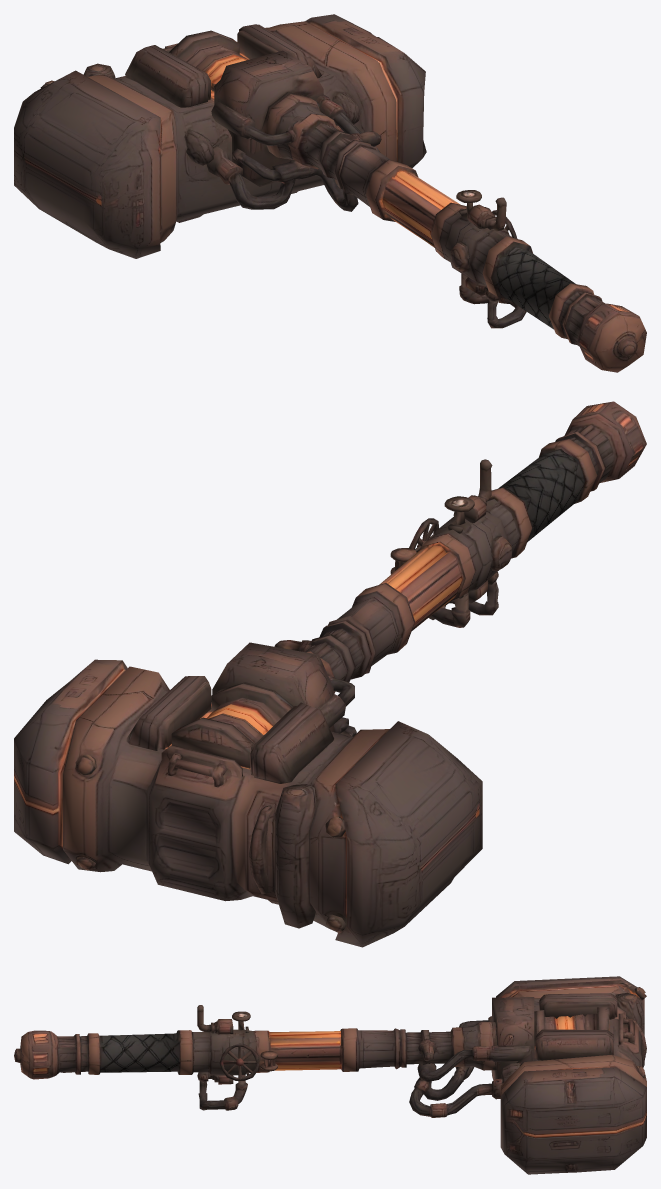
Rendered from c3h8-hammer-lowpoly.glb.
3 views of the same model, one above another, from view 1: azimuth 30°, elevation 25°; view 2: azimuth 150°, elevation 25°; view 3: azimuth 270°, elevation 25° (orthographic). The views are drawn at different scales.
Parts seen in each view (by area): view 1: Embercoil Siege Hammer; view 2: Embercoil Siege Hammer; view 3: Embercoil Siege Hammer.
Boxes of the visible parts, x1,y1,x2,y2 form: Embercoil Siege Hammer: (14,14,646,372); Embercoil Siege Hammer: (14,401,646,947); Embercoil Siege Hammer: (14,976,646,1174).
Bounding box in the file's own units: 0.4863 × 0.2285 × 0.998.
Materials: 1 (1 with a texture image).
